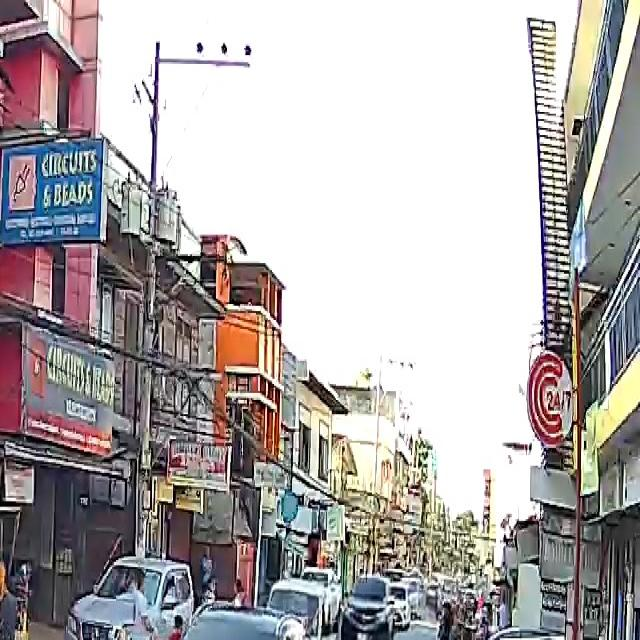car: (62, 551, 195, 640), (126, 602, 333, 640), (266, 579, 339, 640), (343, 569, 397, 640), (470, 626, 639, 640), (383, 578, 422, 622)
